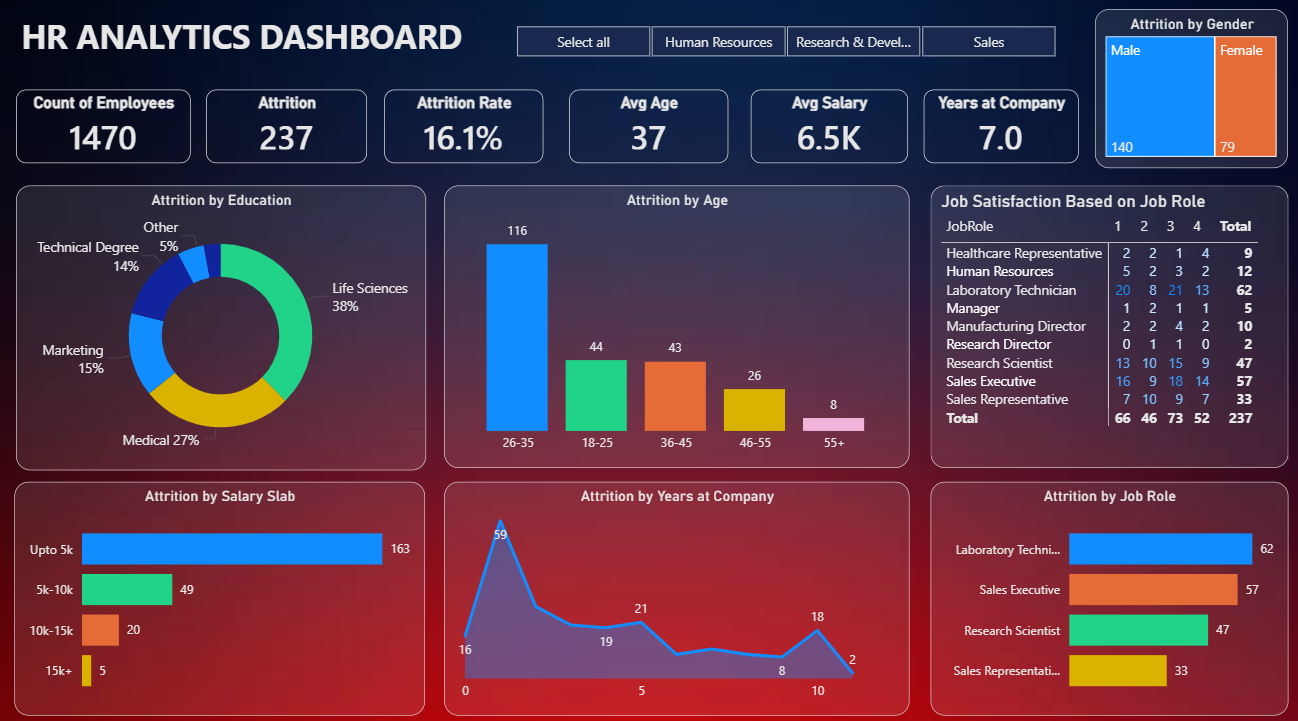

Layout of this report page (visuals, bound fields, positions):
{"tool":"powerbi","page":{"name":"Page 1","canvas":[1280,720],"ordinal":0},"visuals":[{"type":"cardVisual","title":"Count of Employees","fields":{"Data":["CountNonNull(HR_Analytics.EmployeeCount)"]},"box":[17.2,95.4,171.8,72.5],"z":0},{"type":"cardVisual","title":"Attrition","fields":{"Data":["Sum(HR_Analytics.Attrition Count)"]},"box":[204.2,95.4,158.4,72.5],"z":1000},{"type":"cardVisual","title":"Avg Age","fields":{"Data":["Avg(HR_Analytics.Age)"]},"box":[561.2,95.4,156.5,72.5],"z":2000},{"type":"cardVisual","title":"Attrition Rate","fields":{"Data":["HR_Analytics.AttritionRate"]},"box":[379.8,95.4,156.5,72.5],"z":3000},{"type":"cardVisual","title":"Avg Salary","fields":{"Data":["Avg(HR_Analytics.MonthlyIncome)"]},"box":[740.6,95.4,154.6,72.5],"z":4000},{"type":"cardVisual","title":"Years at Company","fields":{"Data":["Avg(HR_Analytics.YearsAtCompany)"]},"box":[910.5,95.4,152.7,72.5],"z":5000},{"type":"donutChart","title":"Attrition by Education","fields":{"Category":["HR_Analytics.EducationField"],"Y":["Sum(HR_Analytics.Attrition Count)"]},"box":[16.7,190,403.3,280],"z":6000},{"type":"columnChart","title":"Attrition by Age","fields":{"Category":["HR_Analytics.AgeGroup"],"Y":["Sum(HR_Analytics.Attrition Count)"]},"box":[438,190,458,278],"z":7000},{"type":"pivotTable","title":"Job Satisfaction Based on Job Role","fields":{"Rows":["HR_Analytics.JobRole"],"Columns":["HR_Analytics.JobSatisfaction"],"Values":["Sum(HR_Analytics.Attrition Count)"]},"box":[916,190,352,278],"z":8000},{"type":"barChart","title":"Attrition by Salary Slab","fields":{"Category":["HR_Analytics.SalarySlab"],"Y":["Sum(HR_Analytics.Attrition Count)"]},"box":[16,482,404,230],"z":9000},{"type":"barChart","title":"Attrition by Job Role","fields":{"Category":["HR_Analytics.JobRole"],"Y":["Sum(HR_Analytics.Attrition Count)"]},"box":[916,482,352,230],"z":10000},{"type":"areaChart","title":"Attrition by Years at Company","fields":{"Category":["HR_Analytics.YearsAtCompany"],"Y":["Sum(HR_Analytics.Attrition Count)"]},"box":[438,482,458,230],"z":11000},{"type":"treemap","title":"Attrition by Gender","fields":{"Group":["HR_Analytics.Gender"],"Values":["Sum(HR_Analytics.Attrition Count)"]},"box":[1078.3,16.7,190,156.7],"z":12000},{"type":"slicer","fields":{"Values":["HR_Analytics.Department"]},"box":[483.3,26.7,580,43.3],"z":13000},{"type":"textbox","box":[16.7,16.7,466.7,53.3],"z":14000}]}

Visuals, with their boxes in screenshot pixels (x1, y1, x2, y2), scaled from the page's 1280x720 canvas onto the 1298x721 screenshot:
"Count of Employees" cardVisual: box(17, 96, 192, 168)
"Attrition" cardVisual: box(207, 96, 368, 168)
"Avg Age" cardVisual: box(569, 96, 728, 168)
"Attrition Rate" cardVisual: box(385, 96, 544, 168)
"Avg Salary" cardVisual: box(751, 96, 908, 168)
"Years at Company" cardVisual: box(923, 96, 1078, 168)
"Attrition by Education" donutChart: box(17, 190, 426, 471)
"Attrition by Age" columnChart: box(444, 190, 909, 469)
"Job Satisfaction Based on Job Role" pivotTable: box(929, 190, 1286, 469)
"Attrition by Salary Slab" barChart: box(16, 483, 426, 713)
"Attrition by Job Role" barChart: box(929, 483, 1286, 713)
"Attrition by Years at Company" areaChart: box(444, 483, 909, 713)
"Attrition by Gender" treemap: box(1093, 17, 1286, 174)
slicer - HR_Analytics.Department: box(490, 27, 1078, 70)
textbox: box(17, 17, 490, 70)
